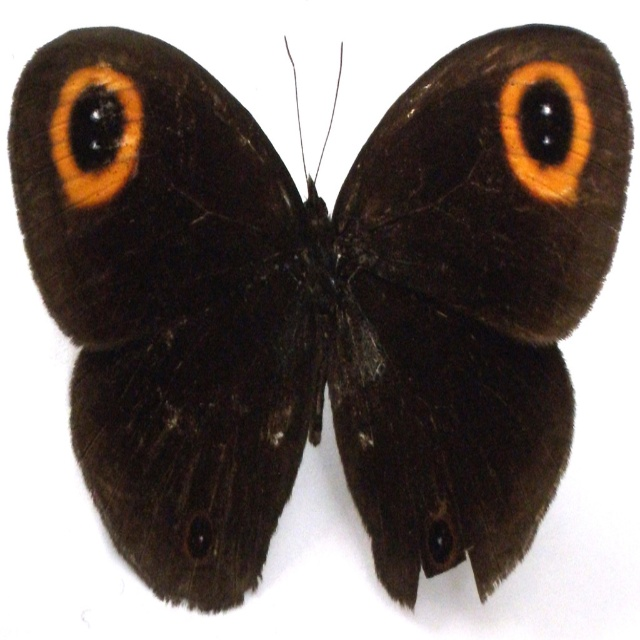Butterfly: (0, 12, 626, 638)
